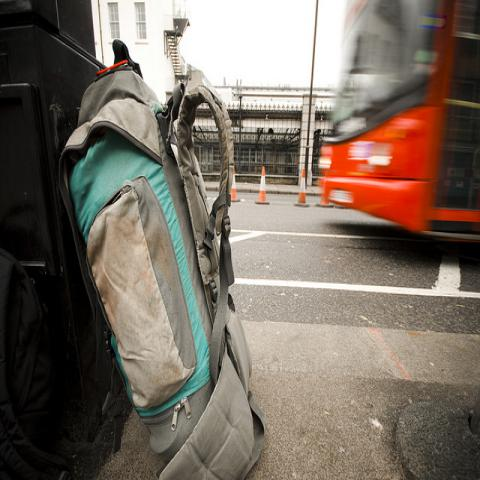bus: (314, 1, 477, 243)
